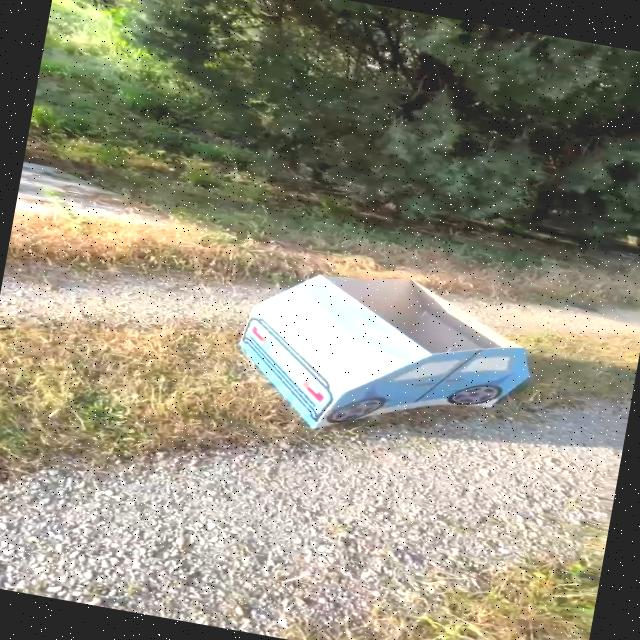blue_car: (195, 233, 555, 492)
